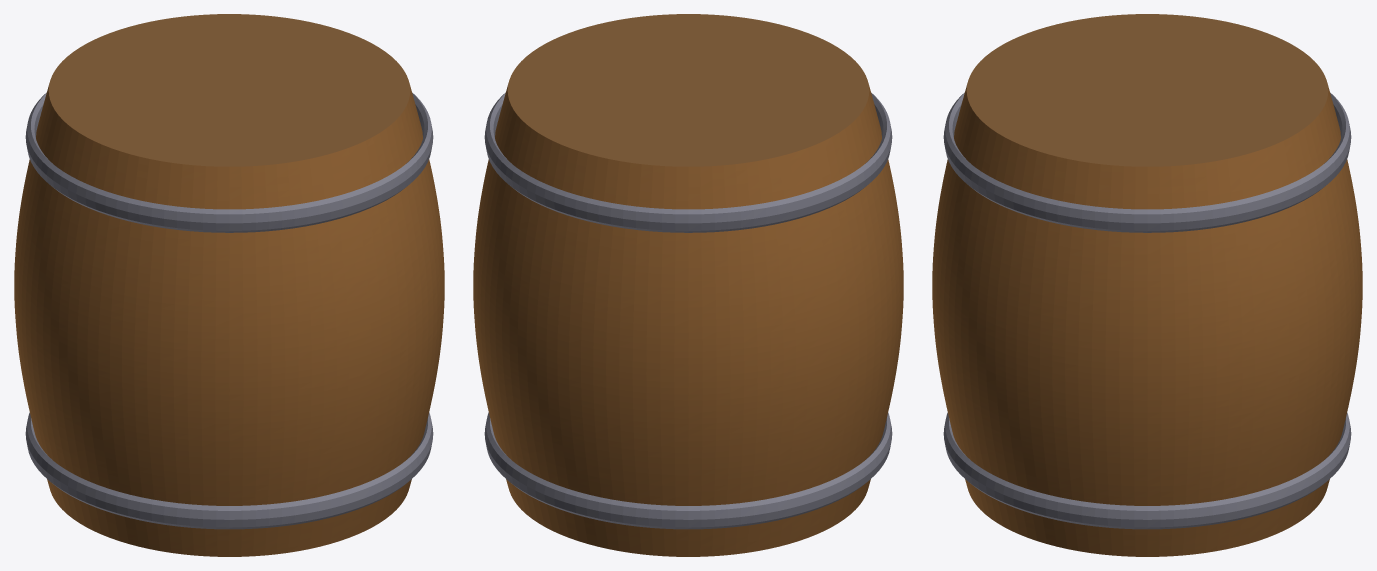
Rendered from Barrel.obj.
The picture shows the model from 3 angles, left to right: view 1: azimuth 30°, elevation 25°; view 2: azimuth 150°, elevation 25°; view 3: azimuth 270°, elevation 25°; orthographic projection.
Visible parts, largest first — view 1: Barrel; view 2: Barrel; view 3: Barrel.
Boxes of the visible parts, <box> form: Barrel: <box>14,14,444,556</box>; Barrel: <box>473,14,903,556</box>; Barrel: <box>932,14,1362,556</box>.
Bounding box in the file's own units: 1 × 1 × 1.
